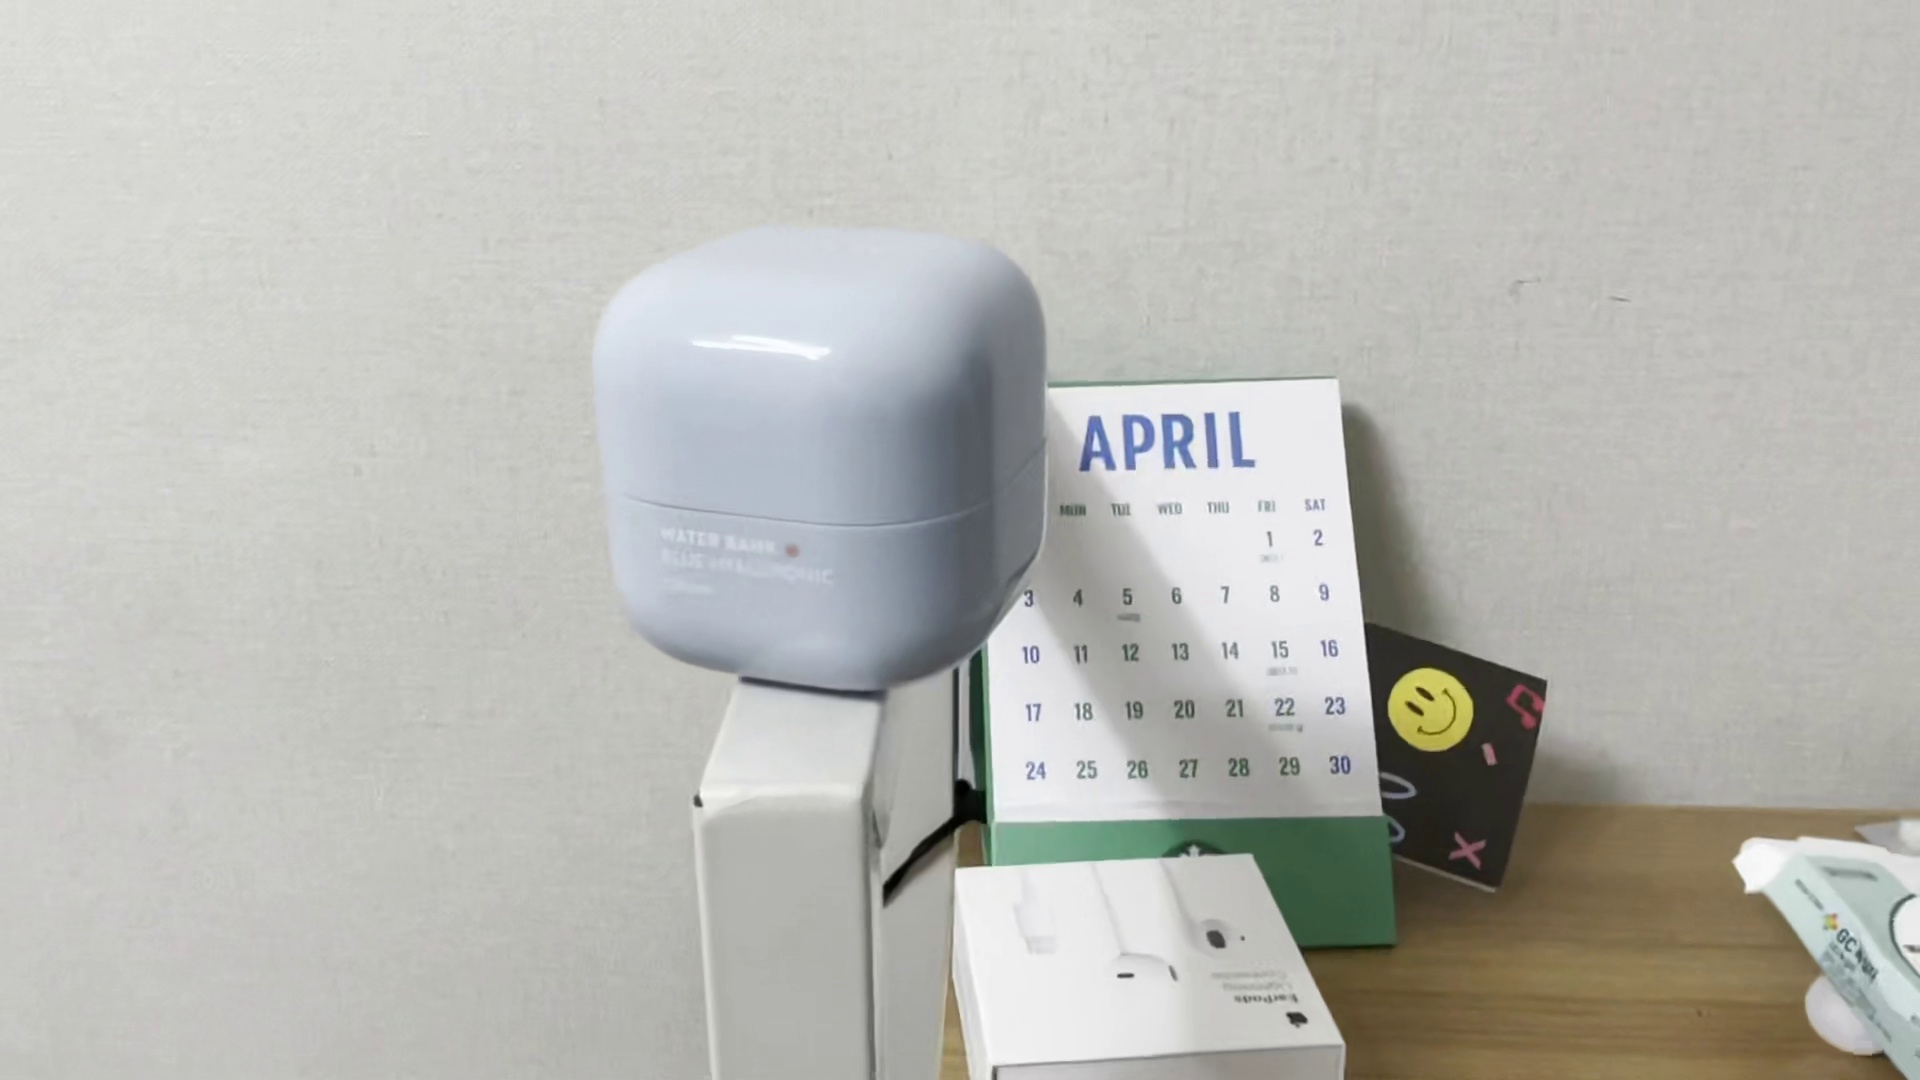cream: (591, 215, 1050, 692)
